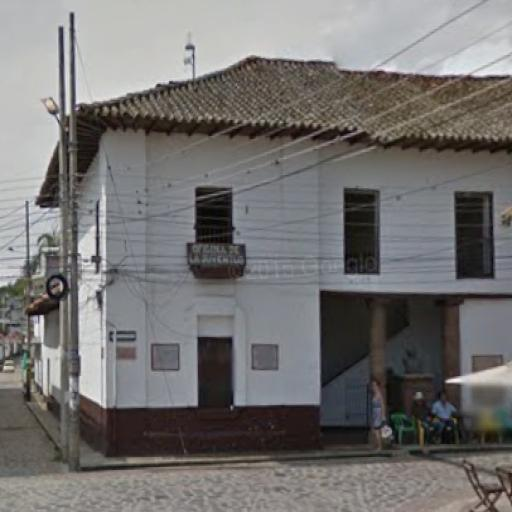Casa: (28, 54, 512, 458)
postes: (42, 10, 85, 473)
